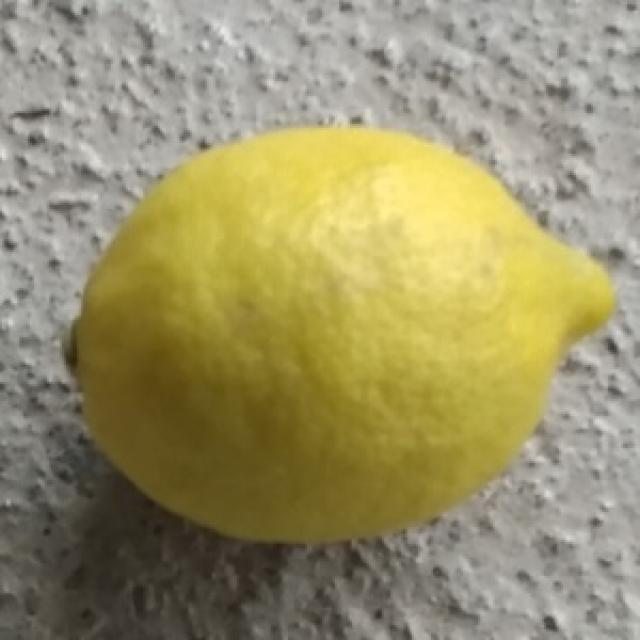Ripe: (57, 117, 620, 551)
